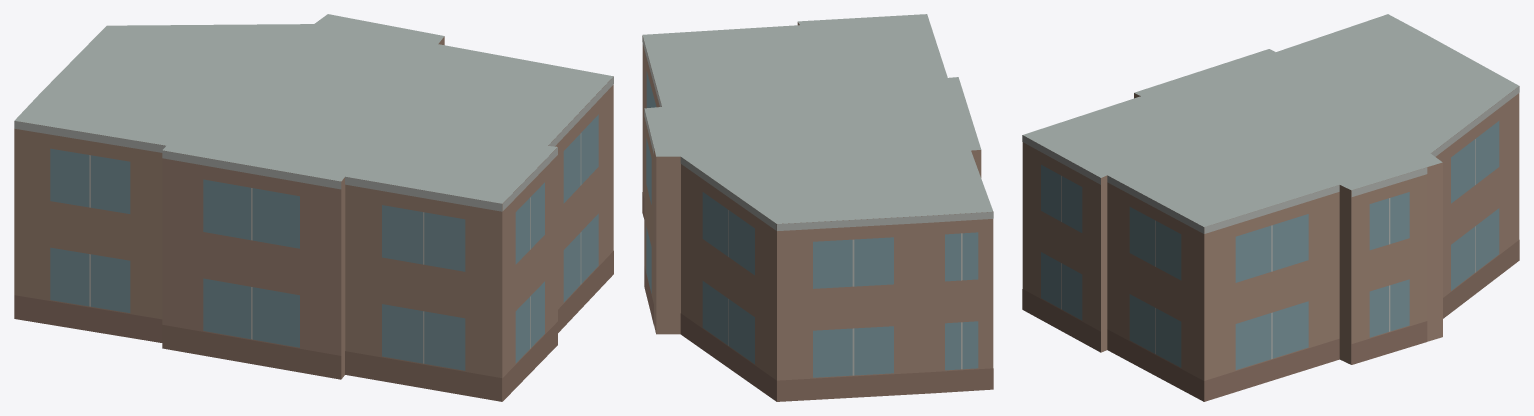
Rendered from survey-upis-32902791.glb.
3 views of the same model, side by side, from view 1: azimuth 30°, elevation 25°; view 2: azimuth 150°, elevation 25°; view 3: azimuth 270°, elevation 25° (orthographic). The views are drawn at different scales.
Parts seen in each view (by area): view 1: survey-upis-32902791.tmp; view 2: survey-upis-32902791.tmp; view 3: survey-upis-32902791.tmp.
Part boxes in pixels (x1,y1,x2,y2): survey-upis-32902791.tmp: (14, 14, 613, 401); survey-upis-32902791.tmp: (642, 14, 993, 401); survey-upis-32902791.tmp: (1022, 14, 1519, 401).
Size of the model in its own units: 15.97 by 6.1 by 15.73.
